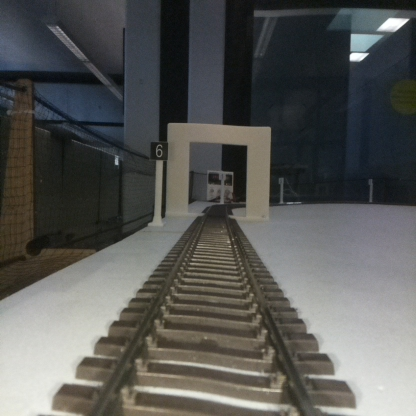black-info-6: (150, 141, 168, 227)
